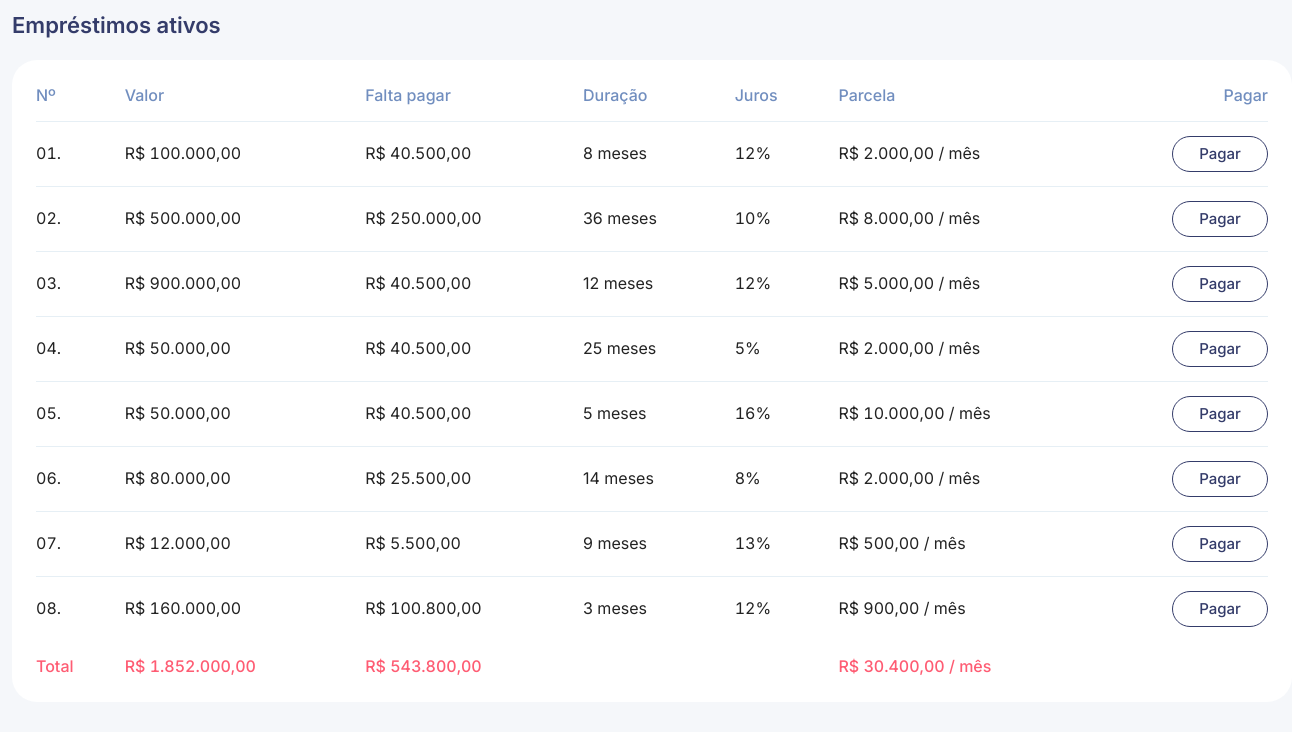
Scenario: pagar abate a parcela da linha e do total
Check: the row "Total R$ 1.852.000,00 R$ 543.800,00 R$ 30.400,00 / mês" is shown, box x1=36 y1=641 x2=1268 y2=678
Click the button with aria-label "Pagar parcela do empréstimo 1" at point(1220, 154), box x1=1172 y1=136 x2=1268 y2=172
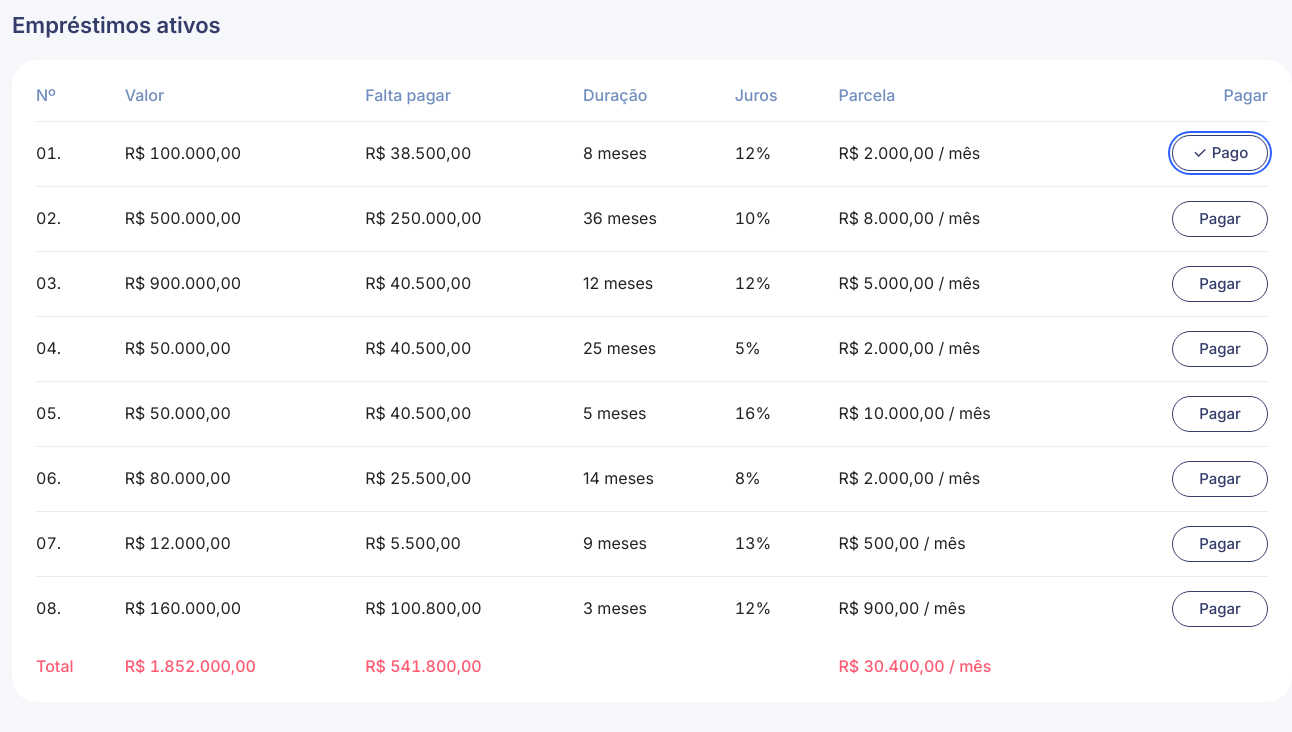
Check: the row that starts with "R$ 100.000,00" reads "01. R$ 100.000,00 R$ 38.500,00 8 meses 12% R$ 2.000,00 / mês Pago", box x1=365 y1=143 x2=471 y2=163
Check: the row "Total R$ 1.852.000,00 R$ 541.800,00 R$ 30.400,00 / mês" is shown, box x1=36 y1=641 x2=1268 y2=678
